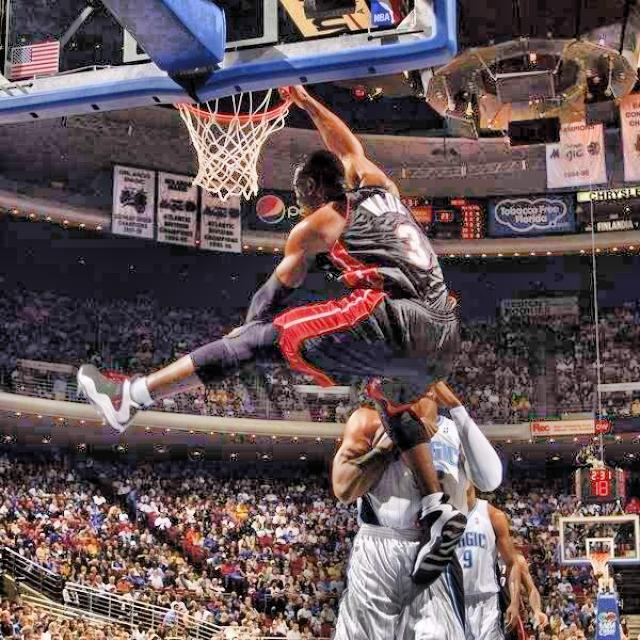rim: (173, 83, 291, 200)
